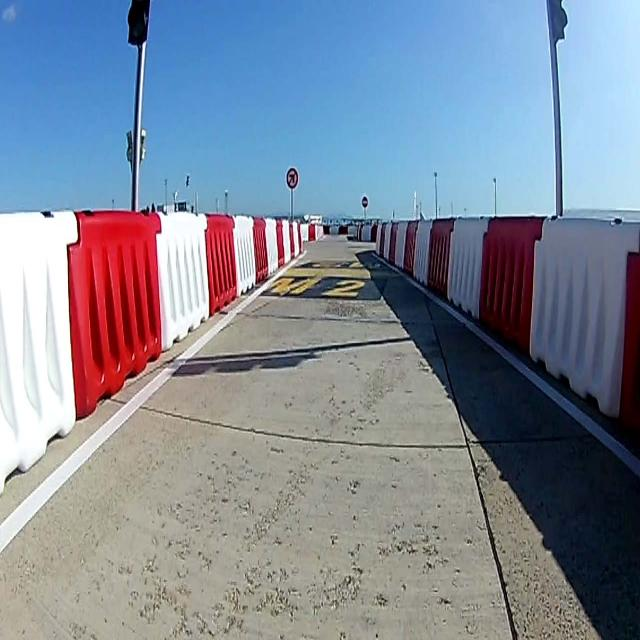soladonulmez: (287, 168, 298, 188)
